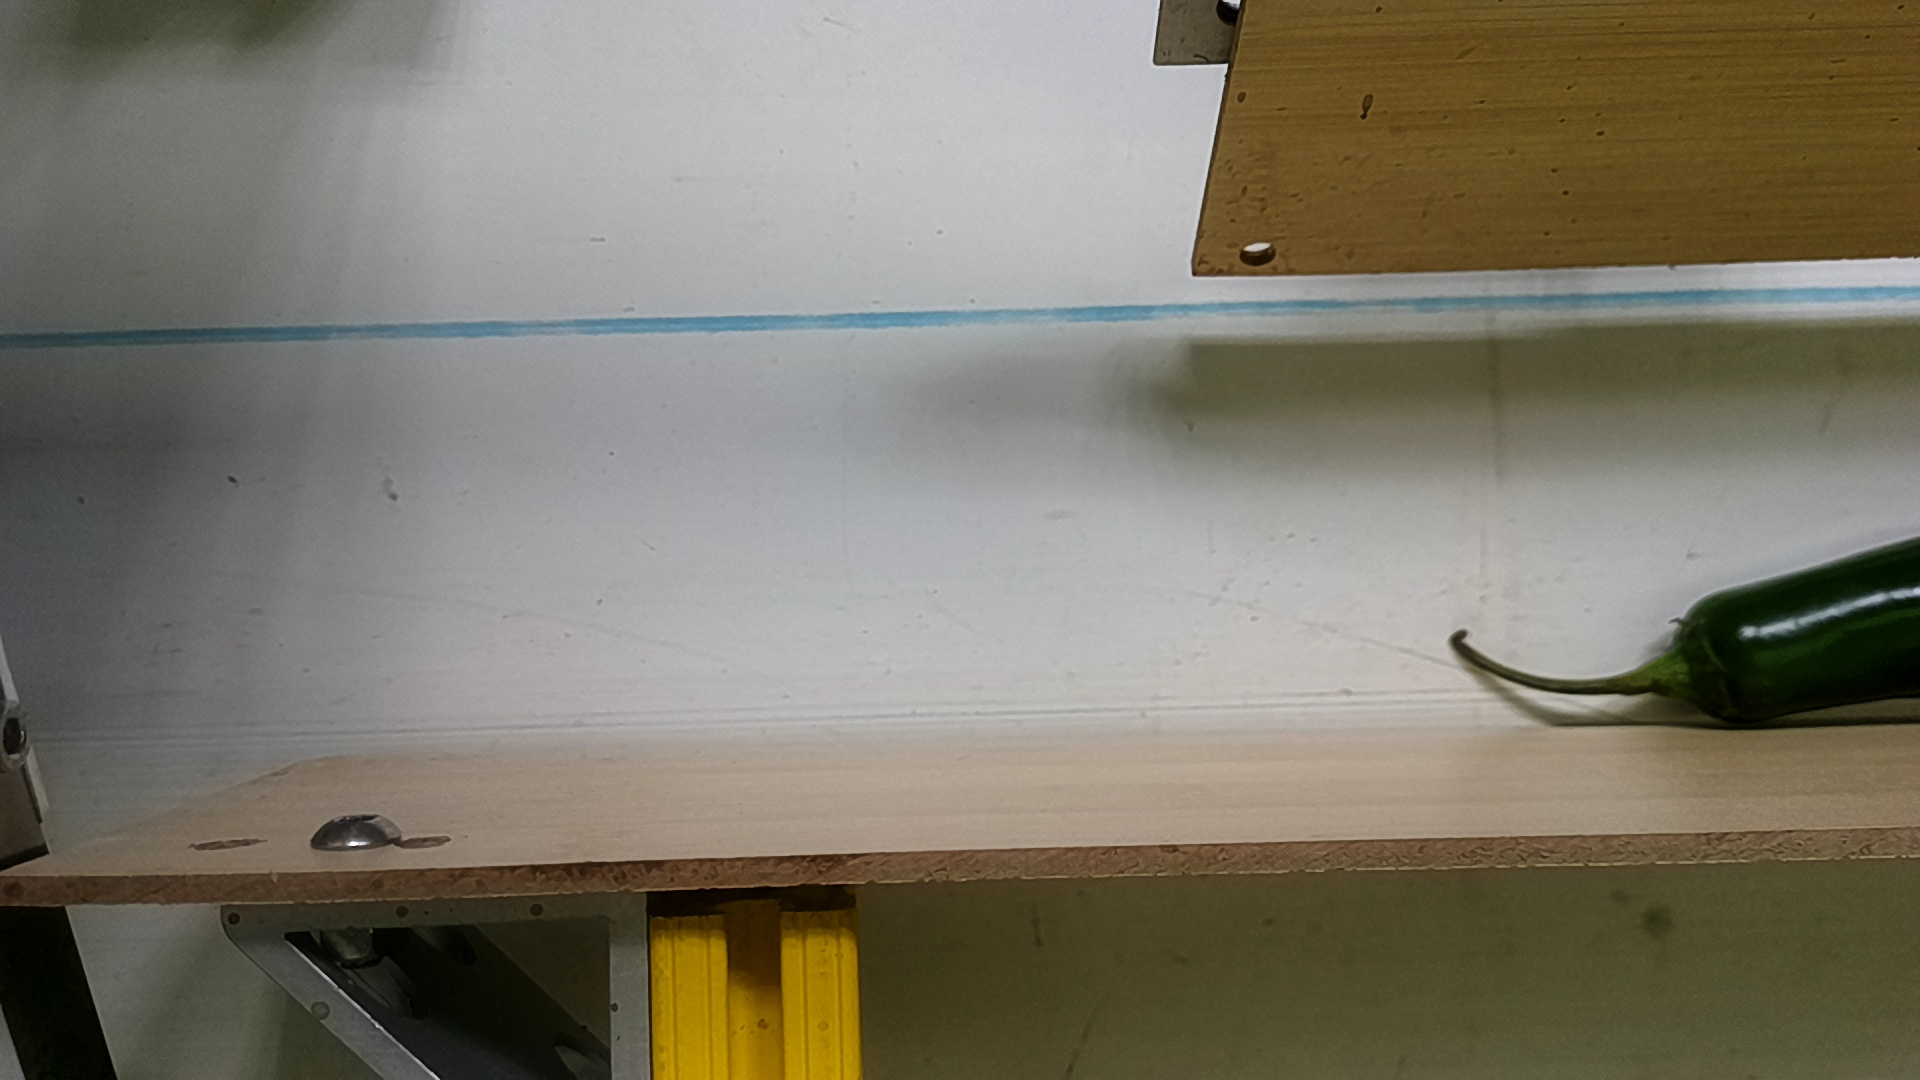Cut Point: (1654, 588, 1756, 732)
